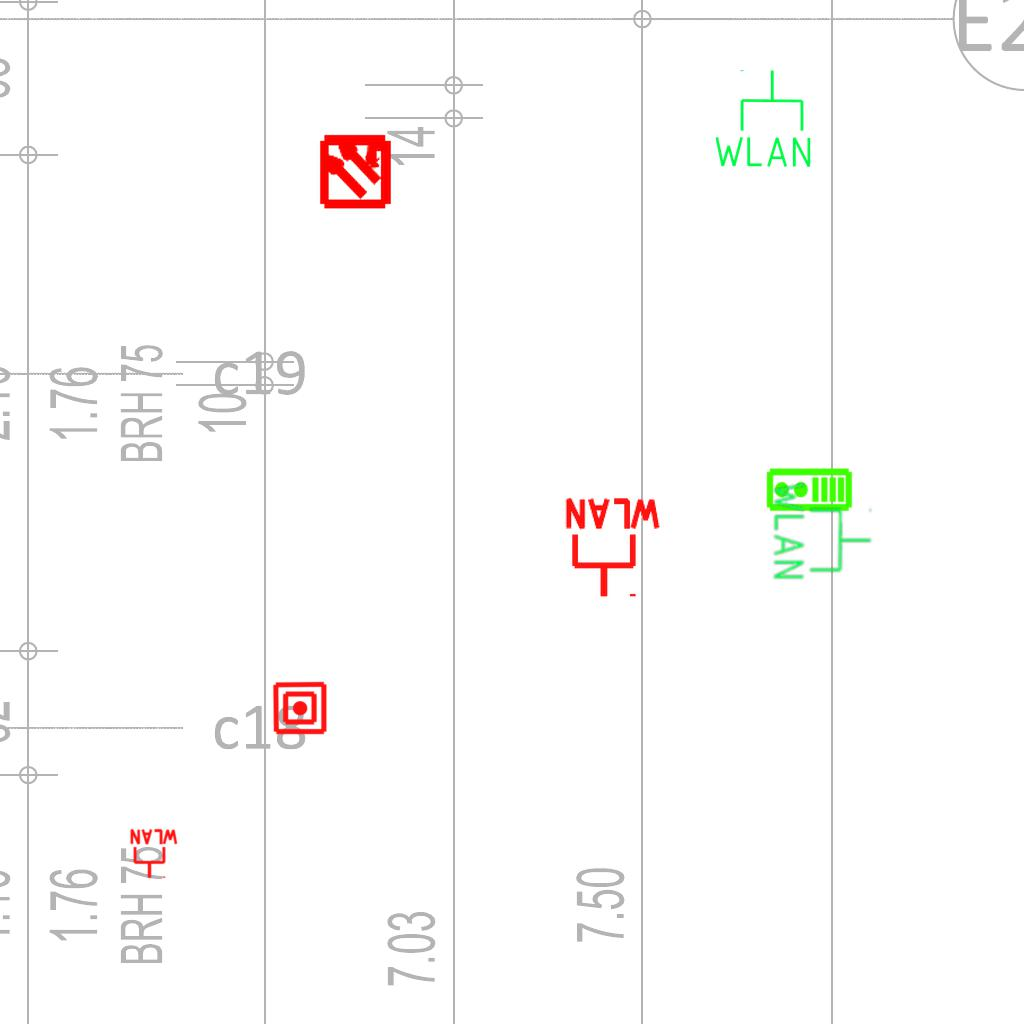Gegensprechanlage_mit_Video: (765, 467, 853, 514)
NAM-Nichtautomatischer_Melder: (272, 680, 328, 736)
OT_Multisensormelder_(Kombination_RMO_WMD): (299, 113, 412, 226)
WLAN: (710, 67, 815, 171), (561, 496, 665, 601), (770, 478, 874, 583), (128, 828, 180, 880)
